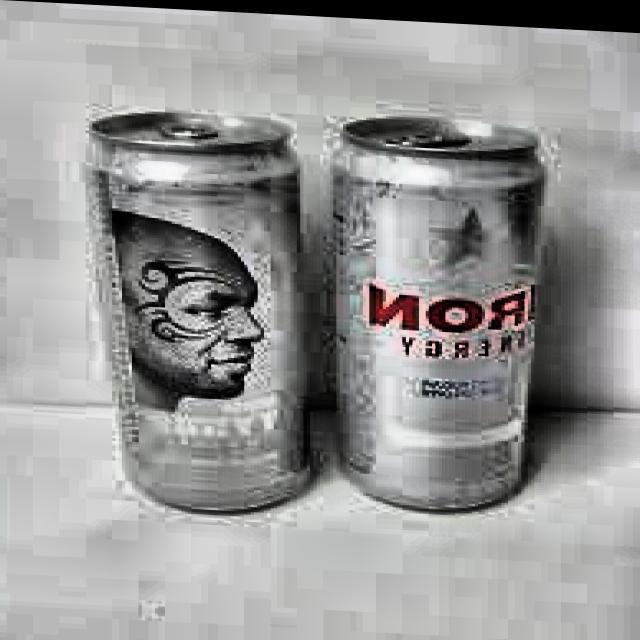litter: (320, 98, 554, 515), (86, 99, 310, 521)
